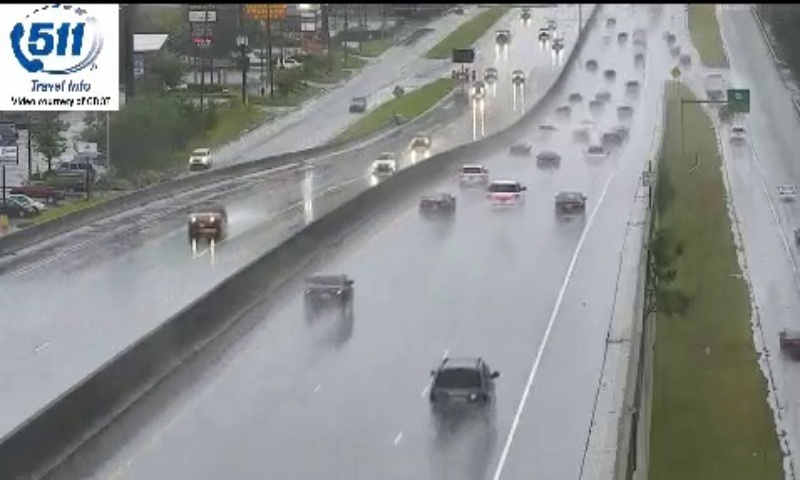car: (430, 358, 493, 413), (306, 274, 353, 312), (485, 179, 522, 209), (555, 192, 585, 217)
